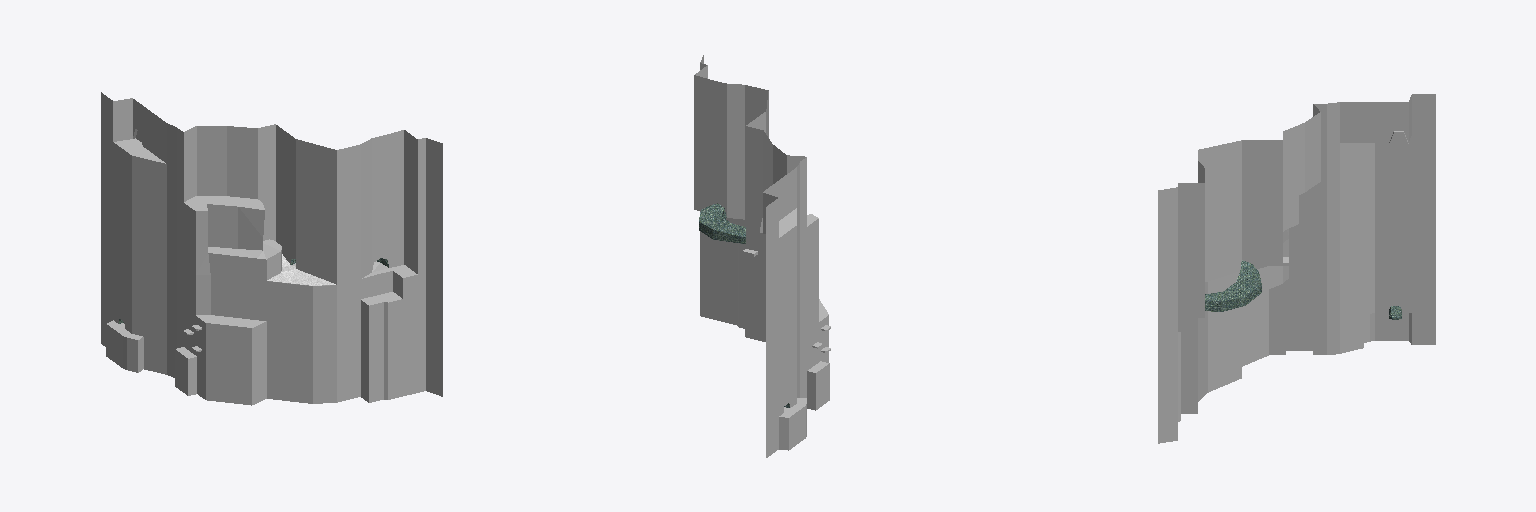
3 views of the same model, side by side, from view 1: azimuth 30°, elevation 25°; view 2: azimuth 150°, elevation 25°; view 3: azimuth 270°, elevation 25° (orthographic).
Parts seen in each view (by area): view 1: Plane.001_Plane; view 2: Plane.001_Plane; view 3: Plane.001_Plane.
Boxes of the visible parts, <box> form: Plane.001_Plane: <box>101,92,442,405</box>; Plane.001_Plane: <box>694,55,830,457</box>; Plane.001_Plane: <box>1158,94,1435,443</box>.
Bounding box in the file's own units: 170 × 164 × 187.
10 materials, 3 textured.